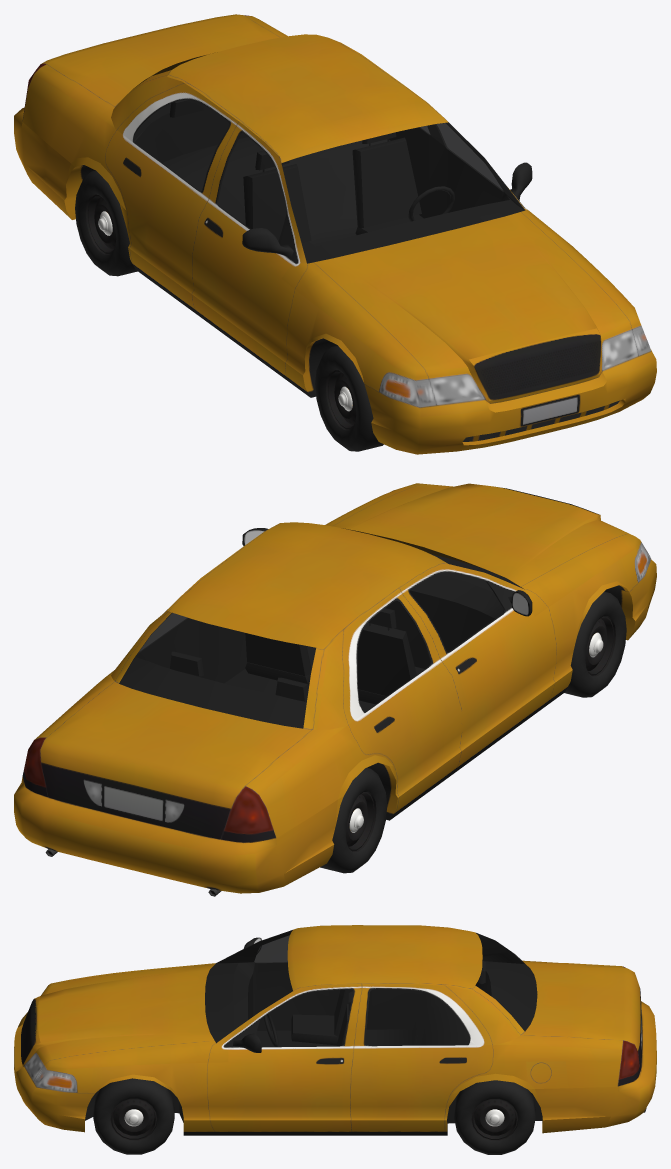
3 renders of one model, top to bottom at view 1: azimuth 30°, elevation 25°; view 2: azimuth 150°, elevation 25°; view 3: azimuth 270°, elevation 25°, orthographic. The views are drawn at different scales.
Parts seen in each view (by area): view 1: Korpus001_carMat_0, Korpus001_windowsMat_0; view 2: Korpus001_carMat_0, Korpus001_windowsMat_0; view 3: Korpus001_carMat_0, Korpus001_windowsMat_0.
Boxes of the visible parts, left/top/right/bottom form: Korpus001_carMat_0: left=14, top=14, right=656, bottom=454; Korpus001_windowsMat_0: left=133, top=55, right=524, bottom=263; Korpus001_carMat_0: left=14, top=483, right=656, bottom=896; Korpus001_windowsMat_0: left=119, top=528, right=523, bottom=728; Korpus001_carMat_0: left=14, top=925, right=656, bottom=1154; Korpus001_windowsMat_0: left=205, top=930, right=537, bottom=1047.
Bounding box in the file's own units: 1.48 × 1.04 × 3.81.
Materials: 2 (1 with a texture image).
